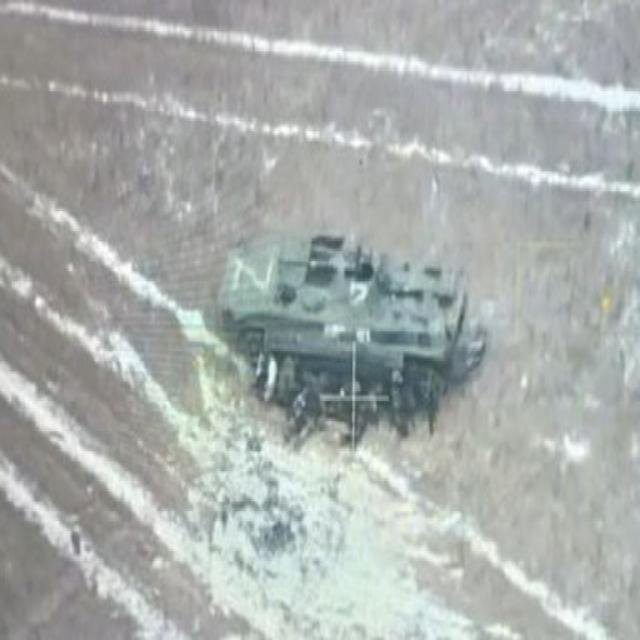APC-IFV: (213, 211, 472, 436)
